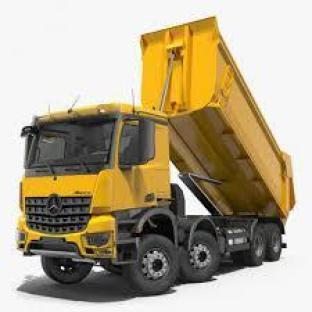Vehicle: (13, 13, 297, 288)
